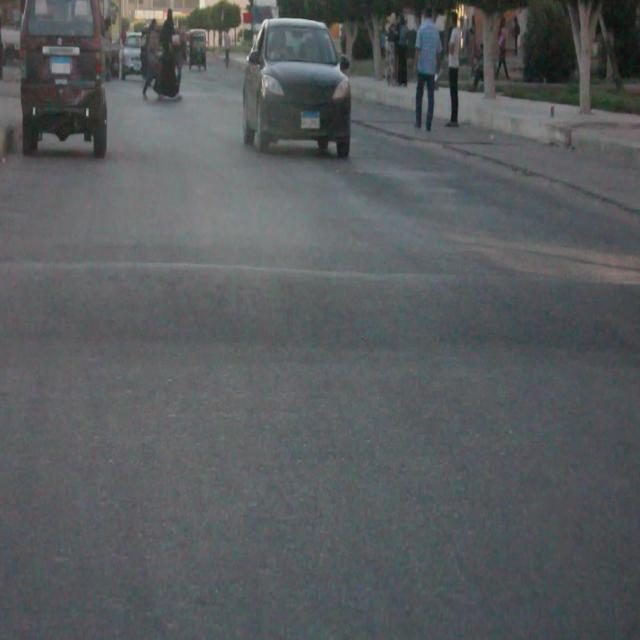NonMarked Bump: (8, 244, 640, 371)
